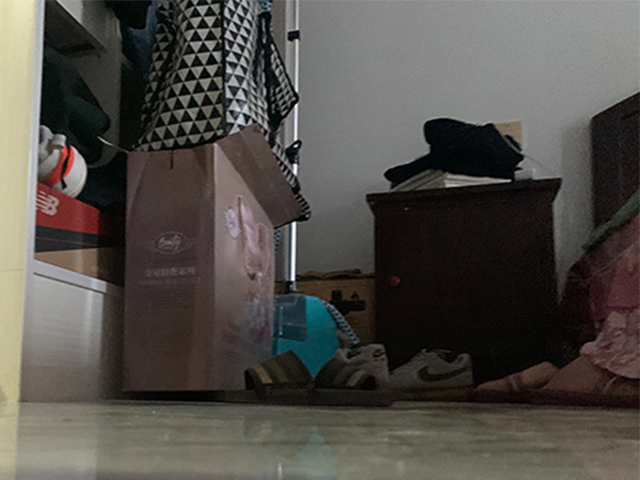slippers: (225, 350, 309, 407), (465, 362, 563, 410), (535, 361, 633, 409), (315, 351, 393, 408)
